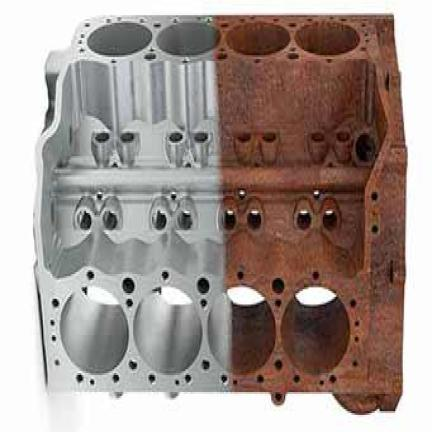besi_tidak_karat: (35, 16, 232, 392)
karat: (211, 16, 407, 412)
